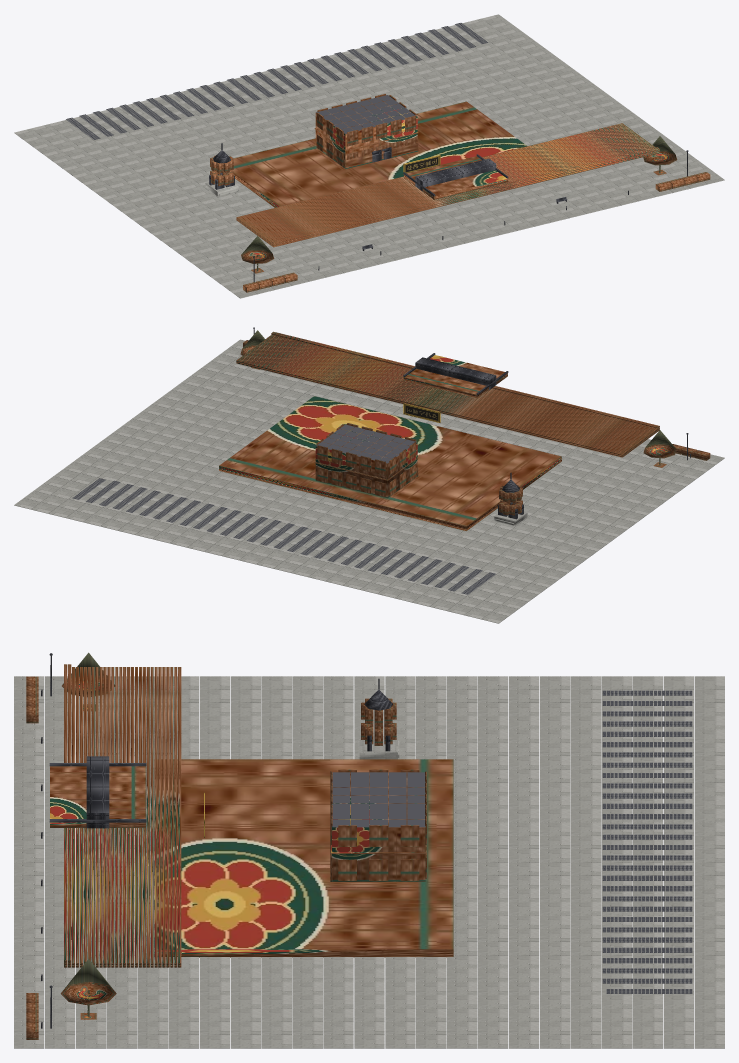
3 views of the same model, one above another, from view 1: azimuth 30°, elevation 25°; view 2: azimuth 150°, elevation 25°; view 3: azimuth 270°, elevation 25° (orthographic). The views are drawn at different scales.
Visible parts, largest first — view 1: 11680_01_06253_045_01__plinth_ground_base, 11680_01_06253_045_02__mass_body_facade, 11680_01_06253_045_03__roof_deck_structure, 11680_01_06253_045_06__landscape_greenery, 11680_01_06253_045_05__window_sash_glass, 11680_01_06253_045_03__roof_metal_ornament, 11680_01_06253_045_05__door_hardware_iron; view 2: 11680_01_06253_045_01__plinth_ground_base, 11680_01_06253_045_02__mass_body_facade, 11680_01_06253_045_03__roof_deck_structure, 11680_01_06253_045_03__roof_metal_ornament, 11680_01_06253_045_06__landscape_greenery, 11680_01_06253_045_05__window_sash_glass; view 3: 11680_01_06253_045_01__plinth_ground_base, 11680_01_06253_045_02__mass_body_facade, 11680_01_06253_045_03__roof_deck_structure, 11680_01_06253_045_06__landscape_greenery, 11680_01_06253_045_03__roof_metal_ornament, 11680_01_06253_045_05__window_sash_glass.
Boxes of the visible parts, x1,y1,x2,y2 form: 11680_01_06253_045_01__plinth_ground_base: [14, 14, 724, 298]; 11680_01_06253_045_02__mass_body_facade: [232, 94, 659, 247]; 11680_01_06253_045_03__roof_deck_structure: [66, 23, 487, 139]; 11680_01_06253_045_06__landscape_greenery: [241, 136, 710, 292]; 11680_01_06253_045_05__window_sash_glass: [210, 115, 416, 185]; 11680_01_06253_045_03__roof_metal_ornament: [213, 143, 508, 196]; 11680_01_06253_045_05__door_hardware_iron: [209, 147, 688, 281]; 11680_01_06253_045_01__plinth_ground_base: [14, 339, 724, 623]; 11680_01_06253_045_02__mass_body_facade: [219, 331, 659, 531]; 11680_01_06253_045_03__roof_deck_structure: [72, 424, 495, 594]; 11680_01_06253_045_03__roof_metal_ornament: [403, 353, 519, 492]; 11680_01_06253_045_06__landscape_greenery: [240, 330, 710, 467]; 11680_01_06253_045_05__window_sash_glass: [347, 423, 522, 515]; 11680_01_06253_045_01__plinth_ground_base: [14, 676, 724, 1048]; 11680_01_06253_045_02__mass_body_facade: [50, 664, 453, 967]; 11680_01_06253_045_03__roof_deck_structure: [332, 690, 692, 993]; 11680_01_06253_045_06__landscape_greenery: [26, 652, 116, 1039]; 11680_01_06253_045_03__roof_metal_ornament: [49, 678, 393, 828]; 11680_01_06253_045_05__window_sash_glass: [330, 698, 396, 866].
Bounding box in the file's own units: 93.95 × 9.2 × 75.95.
7 materials, 7 textured.
